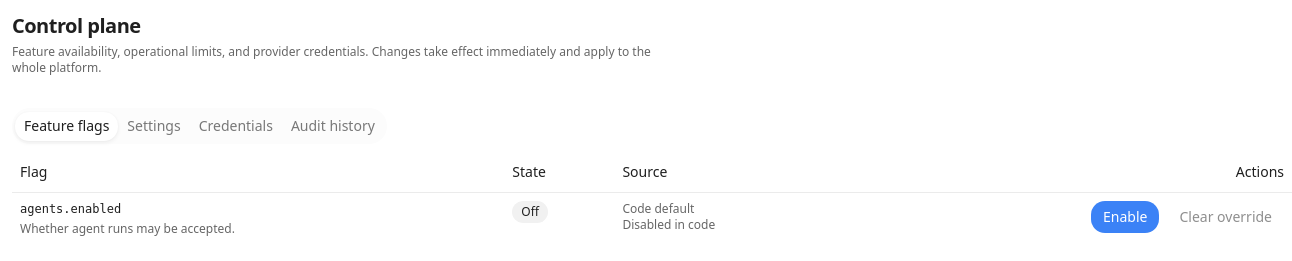
feature flags › sends the opposite of the current state and shows what the server returns
Expected: the text "agents.enabled" is shown, [20, 202, 121, 216]
Click the button "Enable" at (1125, 216), box [1091, 200, 1160, 232]
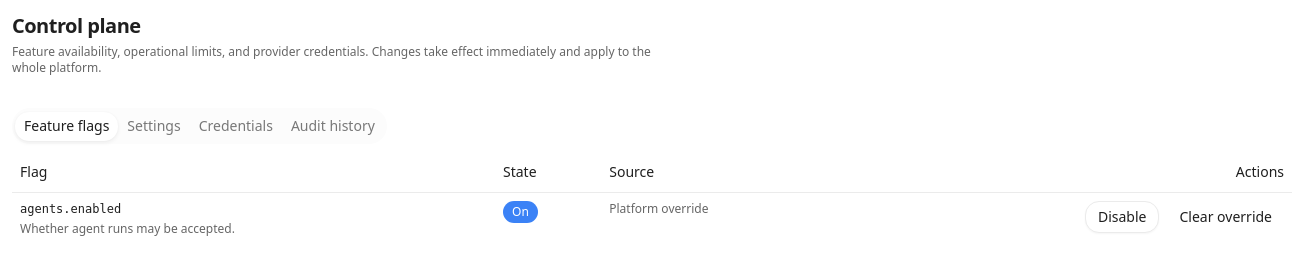
Expected: the text "On" is shown, [503, 200, 538, 222]
Expected: the text "Platform override" is shown, [601, 192, 842, 244]
